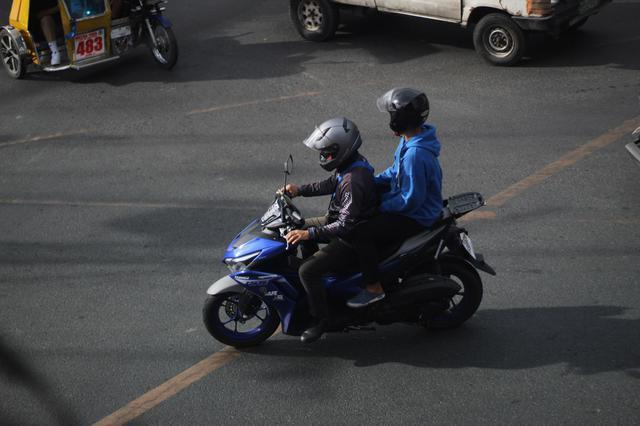helmet: (309, 117, 362, 173), (383, 88, 430, 141)
motorcycle: (202, 83, 496, 350)
